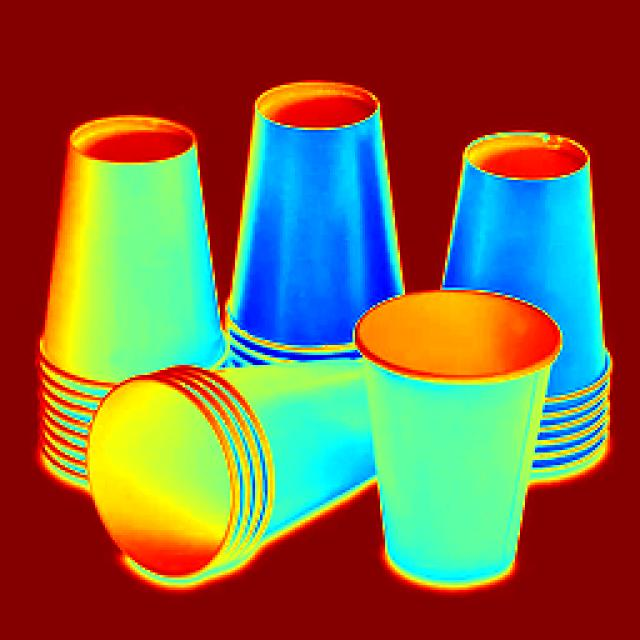Paper Cups: (25, 123, 206, 470), (364, 290, 546, 572), (451, 118, 601, 450), (252, 61, 388, 344), (114, 358, 273, 560)
